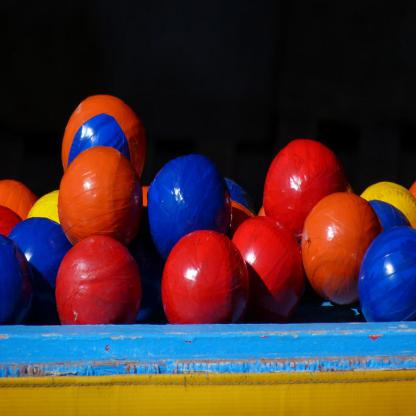Ball: (0, 94, 416, 323)
